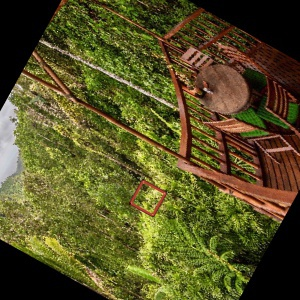square: (127, 178, 168, 218)
